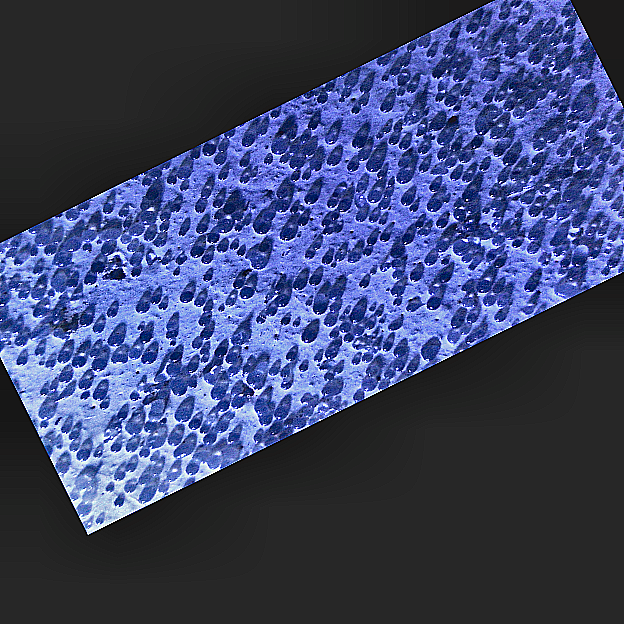GrassBeadSeg: (56, 36, 559, 501), (98, 92, 612, 524), (127, 8, 571, 492), (104, 19, 575, 435), (54, 132, 554, 475), (77, 23, 503, 425), (112, 72, 467, 507), (134, 123, 480, 487), (87, 110, 558, 362), (135, 68, 561, 332), (110, 111, 526, 364), (137, 158, 505, 414), (266, 43, 590, 307), (29, 148, 567, 300), (28, 201, 389, 427), (172, 203, 472, 458), (89, 190, 611, 333), (241, 153, 517, 406), (269, 23, 622, 219), (266, 208, 568, 436), (90, 312, 507, 475), (173, 239, 522, 431), (284, 38, 550, 288), (273, 47, 541, 292), (172, 246, 532, 422), (213, 189, 471, 433), (102, 258, 504, 412), (224, 217, 537, 412), (290, 88, 542, 330), (308, 65, 560, 305), (221, 129, 533, 316), (172, 212, 471, 397), (377, 40, 570, 324), (30, 241, 449, 363), (214, 242, 491, 408), (250, 107, 524, 270), (105, 239, 517, 346), (56, 275, 323, 437), (151, 139, 545, 248), (124, 272, 353, 453), (165, 251, 361, 447), (320, 190, 578, 336), (91, 279, 393, 401), (137, 128, 390, 272), (113, 326, 471, 422), (287, 148, 623, 246), (201, 285, 404, 444), (188, 201, 476, 312), (272, 203, 416, 422), (353, 143, 622, 259), (205, 226, 330, 469), (200, 200, 351, 400), (361, 88, 471, 358), (449, 33, 548, 277), (376, 114, 592, 225), (172, 234, 283, 444), (424, 190, 613, 311), (77, 240, 167, 493), (368, 121, 587, 223), (98, 295, 289, 410), (205, 248, 407, 356), (157, 251, 496, 311), (204, 194, 412, 289), (252, 192, 438, 298), (99, 246, 337, 327), (318, 242, 462, 370), (57, 351, 197, 476), (353, 242, 469, 392), (336, 213, 520, 307), (375, 62, 583, 139), (295, 217, 491, 294), (222, 207, 496, 261), (436, 54, 558, 173), (325, 140, 536, 208), (137, 419, 305, 504), (274, 135, 476, 200), (333, 252, 509, 324), (134, 222, 270, 314), (305, 257, 548, 306), (279, 194, 437, 266), (562, 20, 620, 212), (215, 131, 310, 247), (375, 200, 501, 287), (333, 198, 539, 251), (158, 340, 261, 443), (193, 285, 261, 441), (476, 18, 591, 98), (324, 226, 598, 259), (195, 224, 312, 291), (94, 410, 161, 525), (311, 43, 435, 103), (477, 122, 540, 240), (68, 375, 162, 449), (273, 187, 369, 258), (300, 270, 379, 355), (364, 248, 416, 375), (408, 198, 475, 294), (224, 354, 323, 418), (230, 301, 327, 365), (376, 97, 455, 175), (101, 178, 222, 228), (340, 60, 447, 113), (212, 114, 314, 166), (38, 360, 95, 452), (311, 103, 388, 170), (546, 136, 611, 214), (137, 416, 263, 456), (395, 132, 489, 185), (513, 5, 574, 86), (378, 219, 556, 245), (320, 333, 393, 396), (252, 373, 335, 427), (164, 315, 237, 375), (514, 50, 584, 112), (337, 263, 397, 333), (37, 358, 107, 417), (47, 255, 136, 301), (527, 156, 590, 217), (499, 25, 553, 96), (451, 190, 574, 221), (216, 134, 331, 167), (78, 439, 149, 492), (354, 343, 416, 402), (464, 234, 504, 324), (380, 67, 458, 112), (244, 315, 290, 390), (332, 257, 450, 284), (140, 342, 207, 389), (65, 201, 167, 231), (86, 212, 184, 241), (38, 356, 84, 417), (452, 0, 520, 40), (384, 79, 442, 125), (127, 348, 196, 386), (172, 329, 227, 375), (188, 145, 254, 183), (0, 285, 47, 338), (0, 282, 47, 334), (446, 262, 475, 345), (312, 327, 363, 374), (109, 445, 175, 481), (447, 11, 526, 39), (530, 158, 597, 188), (230, 351, 307, 377), (380, 220, 423, 266), (104, 456, 157, 492), (386, 159, 454, 186), (548, 186, 578, 246), (145, 161, 179, 212), (288, 134, 336, 170), (43, 235, 129, 255), (168, 145, 212, 184), (601, 159, 623, 237), (407, 136, 446, 177), (343, 269, 373, 322), (10, 251, 42, 299), (15, 357, 74, 383), (33, 310, 67, 355), (496, 175, 548, 204), (560, 247, 610, 277), (34, 237, 92, 262), (315, 77, 370, 103), (119, 235, 168, 264), (547, 66, 574, 116), (404, 37, 453, 64), (552, 228, 595, 257), (170, 190, 221, 213), (351, 309, 381, 348), (431, 218, 447, 290), (535, 50, 557, 100), (128, 255, 179, 276), (373, 312, 387, 385), (328, 330, 357, 365), (246, 367, 291, 389), (329, 303, 374, 325), (576, 122, 604, 156), (268, 110, 318, 129), (351, 129, 400, 148), (168, 340, 196, 372), (326, 138, 358, 166), (587, 180, 603, 234), (400, 120, 441, 141), (462, 148, 501, 170), (464, 188, 498, 213), (435, 140, 479, 158), (227, 366, 253, 396), (391, 246, 404, 306), (488, 102, 508, 139), (405, 219, 445, 237), (368, 157, 383, 203), (148, 455, 167, 488), (569, 129, 588, 160), (288, 162, 320, 180), (459, 262, 477, 293), (584, 125, 615, 143), (462, 162, 488, 183), (52, 240, 72, 267), (430, 172, 458, 191), (567, 136, 591, 158), (482, 95, 513, 112), (384, 102, 401, 131), (357, 276, 401, 287), (14, 336, 67, 345), (70, 230, 92, 251), (166, 350, 183, 377), (139, 476, 166, 493), (464, 211, 488, 230), (351, 387, 386, 400), (417, 154, 446, 169), (386, 180, 439, 188), (458, 139, 481, 157), (137, 466, 160, 484), (447, 96, 491, 105), (597, 128, 608, 162), (429, 159, 452, 175), (366, 189, 390, 203), (402, 139, 424, 154), (124, 455, 147, 469), (350, 161, 360, 192), (323, 344, 341, 360), (381, 235, 413, 244), (418, 144, 428, 172), (537, 182, 558, 194), (531, 206, 552, 218), (147, 423, 159, 444), (557, 272, 575, 285), (200, 261, 211, 282), (151, 472, 176, 481), (429, 121, 445, 135), (476, 212, 503, 220), (487, 189, 500, 205), (82, 485, 90, 511), (365, 159, 382, 171), (356, 191, 390, 197), (553, 273, 563, 293), (377, 158, 386, 180), (361, 321, 373, 337), (584, 227, 604, 236), (398, 195, 414, 206), (565, 115, 576, 131), (570, 258, 578, 279), (599, 265, 614, 276), (519, 168, 537, 177), (583, 131, 592, 149), (289, 172, 309, 180), (480, 205, 499, 213), (613, 126, 621, 145), (330, 156, 349, 164), (450, 173, 471, 180), (457, 152, 470, 163), (490, 127, 503, 137), (112, 473, 122, 486), (503, 173, 519, 181), (456, 225, 470, 234), (557, 263, 568, 272), (397, 143, 410, 150), (556, 285, 565, 295), (118, 470, 133, 476), (466, 214, 477, 222), (605, 258, 616, 266), (606, 233, 616, 241), (575, 159, 583, 169), (345, 166, 358, 172), (585, 158, 592, 167), (92, 451, 100, 458), (142, 424, 148, 433), (80, 511, 89, 517), (257, 422, 270, 426), (149, 425, 156, 432), (224, 360, 236, 364), (571, 263, 583, 267), (145, 444, 157, 448), (76, 507, 80, 516), (535, 208, 539, 216), (359, 138, 363, 146), (40, 417, 50, 420), (266, 415, 271, 421), (580, 257, 584, 262), (389, 103, 391, 110), (589, 117, 592, 120), (447, 135, 448, 143)
